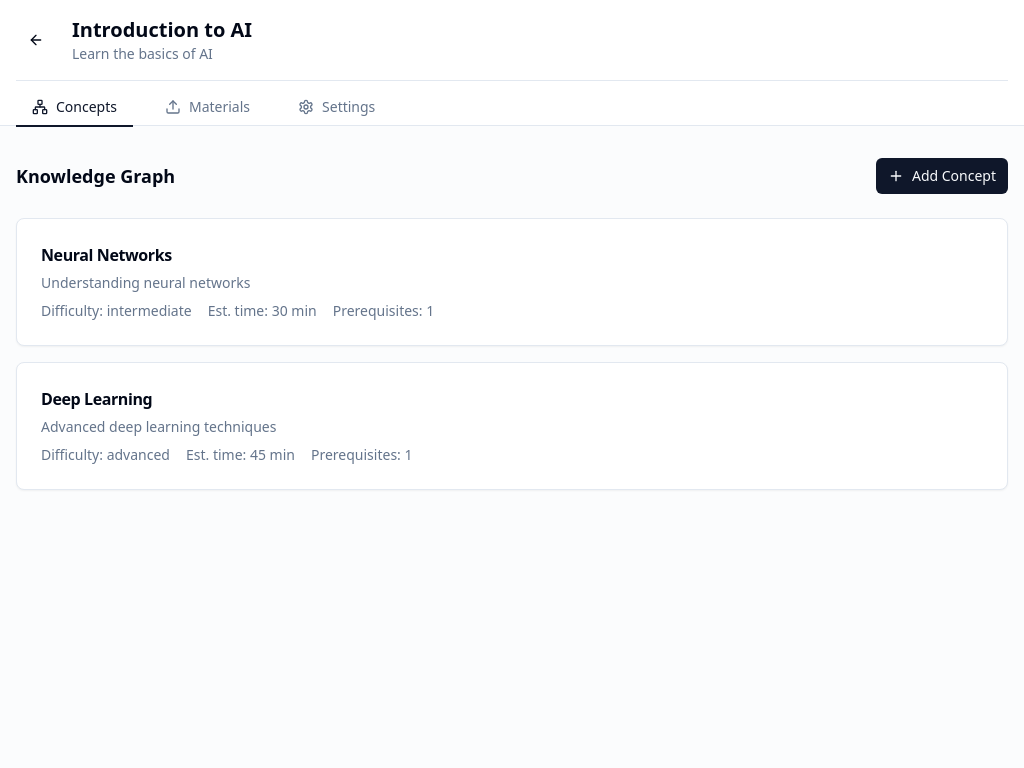
Scenario: CourseBuilder › tabs › should switch to settings tab
Expected: the heading "Introduction to AI" is shown, [72, 16, 252, 44]
Click the button "Settings": (337, 108) [282, 89, 391, 127]
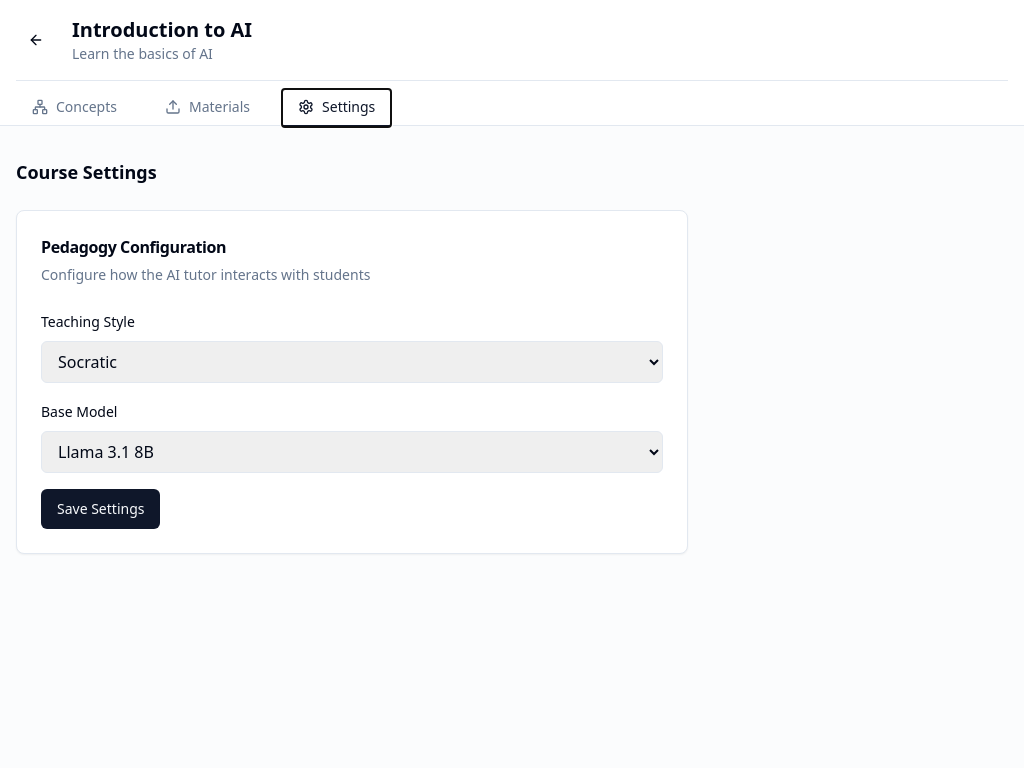
Result: the heading "Course Settings" is shown at [16, 160, 157, 184]
